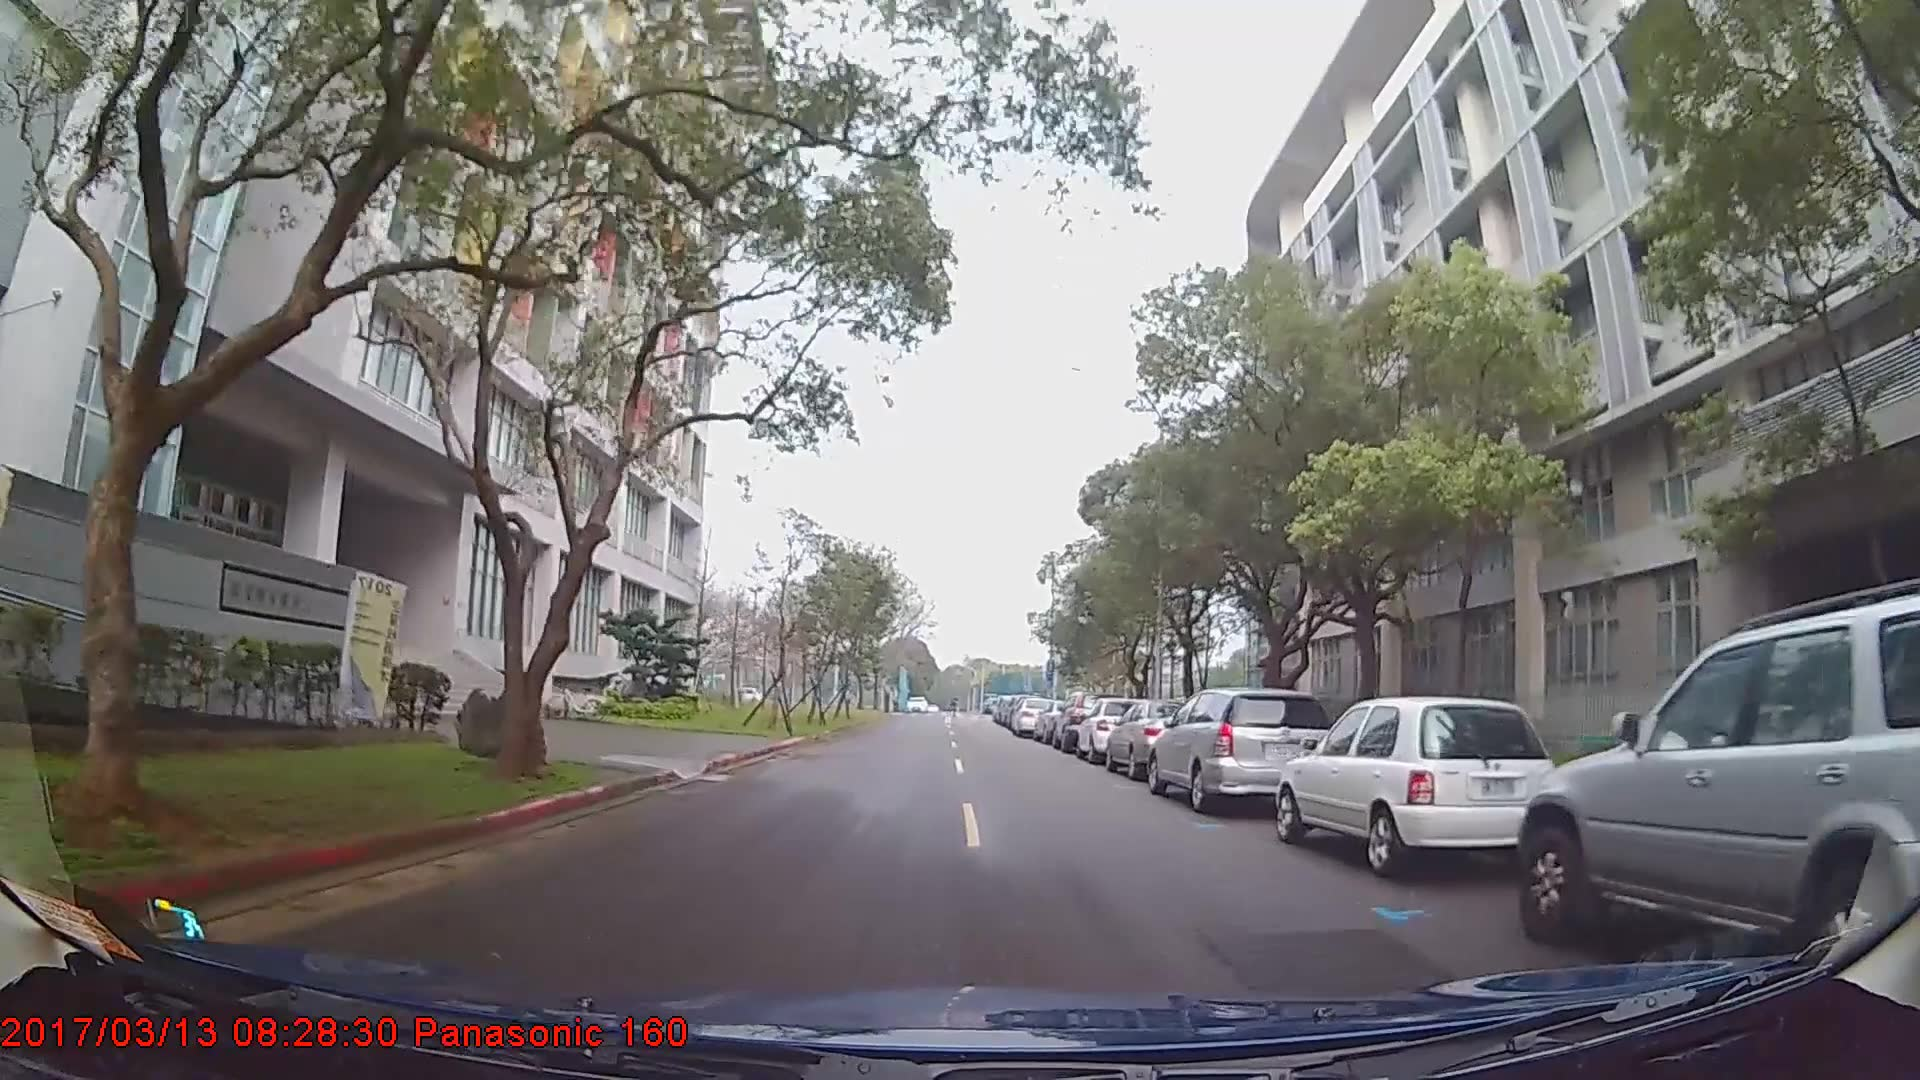vehicle: (1519, 583, 1919, 976), (1273, 692, 1560, 876), (1145, 687, 1338, 814), (1102, 694, 1208, 778), (1007, 692, 1058, 735)
